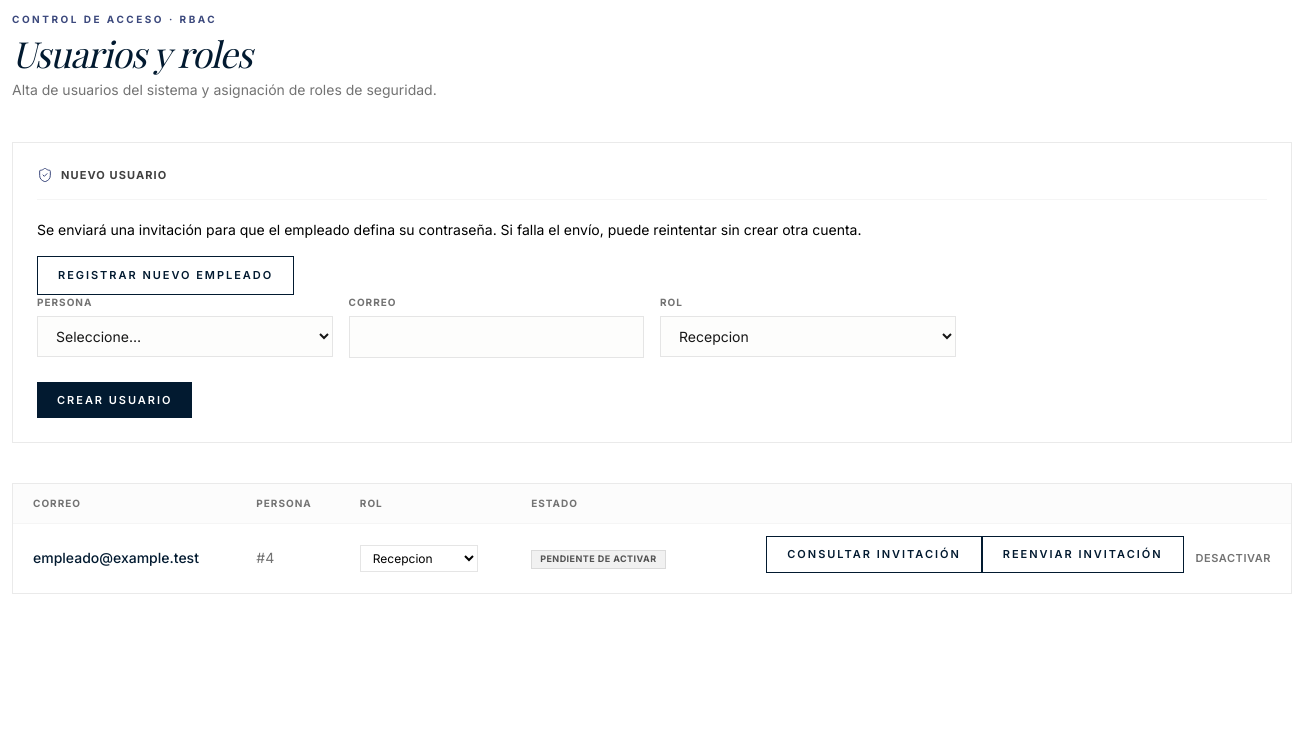
Test case: Administración invita al personal sin definir contraseñas › registra un empleado nuevo desde Usuarios en una sola solicitud
The width and height of the screenshot is (1292, 732).
Click the button "Registrar nuevo empleado" at {"x": 166, "y": 276}, box [37, 256, 294, 295]
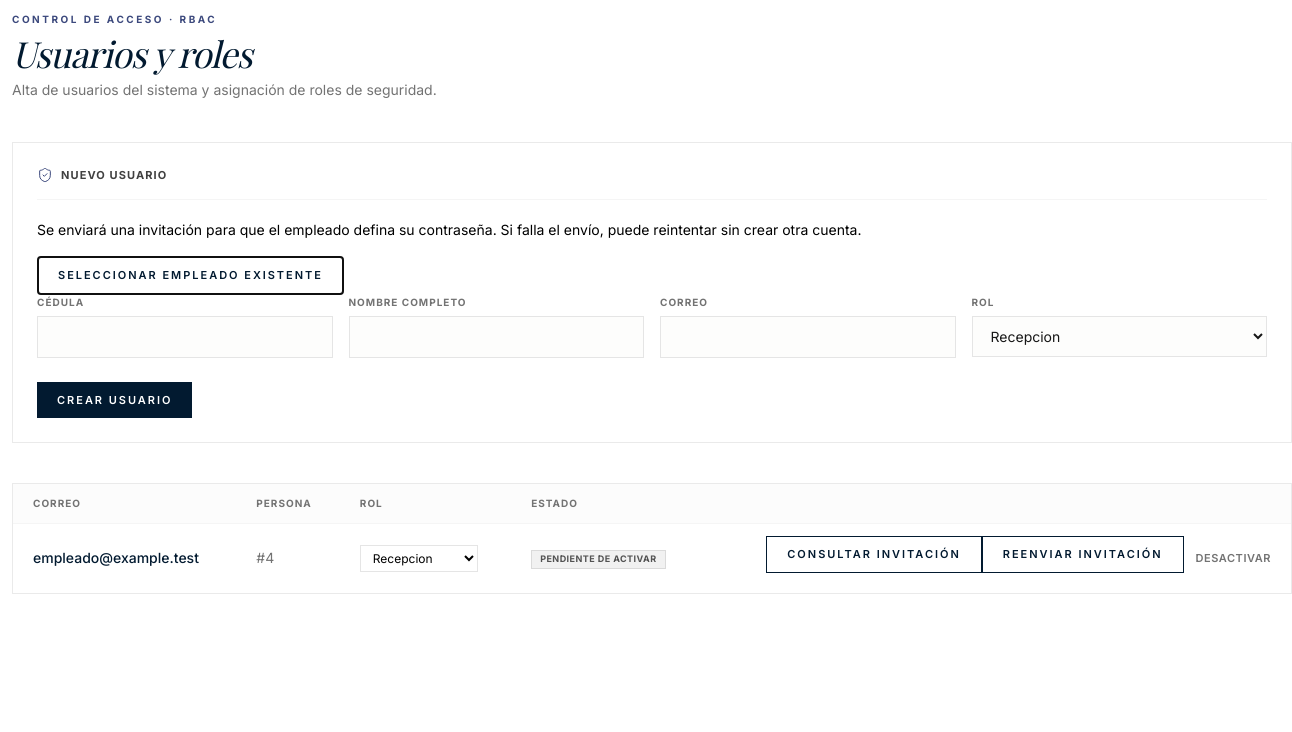
Type "123456" into the field labelled "Cédula" at {"x": 185, "y": 337}, box [37, 316, 332, 358]
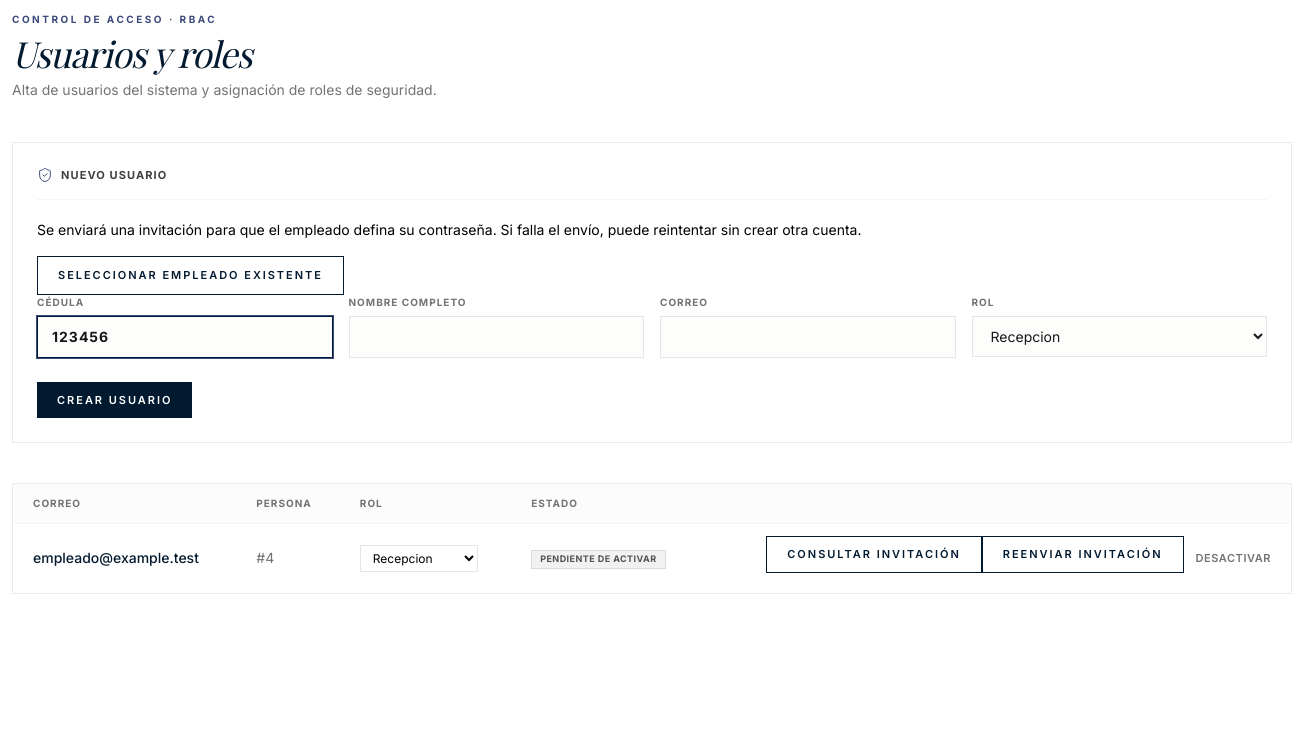
Type "Ana Empleada" into the field labelled "Nombre completo" at {"x": 496, "y": 337}, box [348, 316, 644, 358]
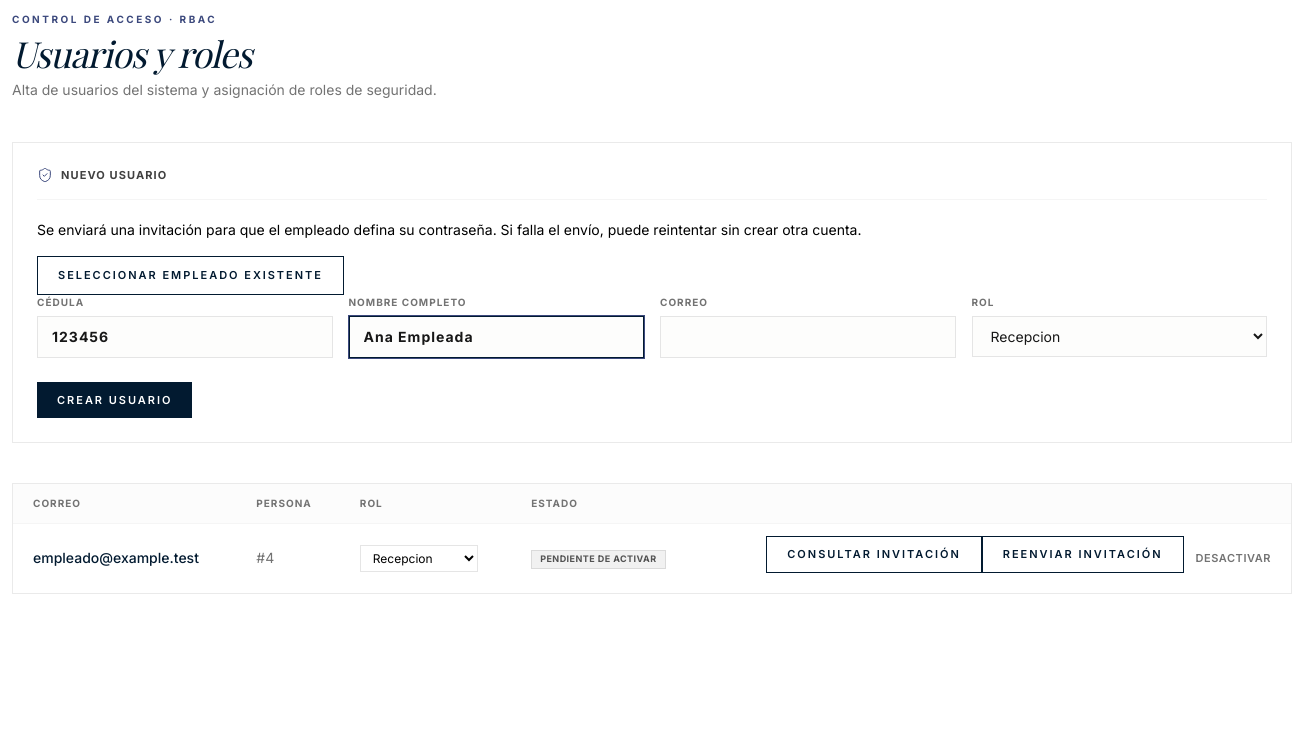
Type "empleado@example.test" into the field labelled "Correo" at {"x": 808, "y": 337}, box [660, 316, 956, 358]
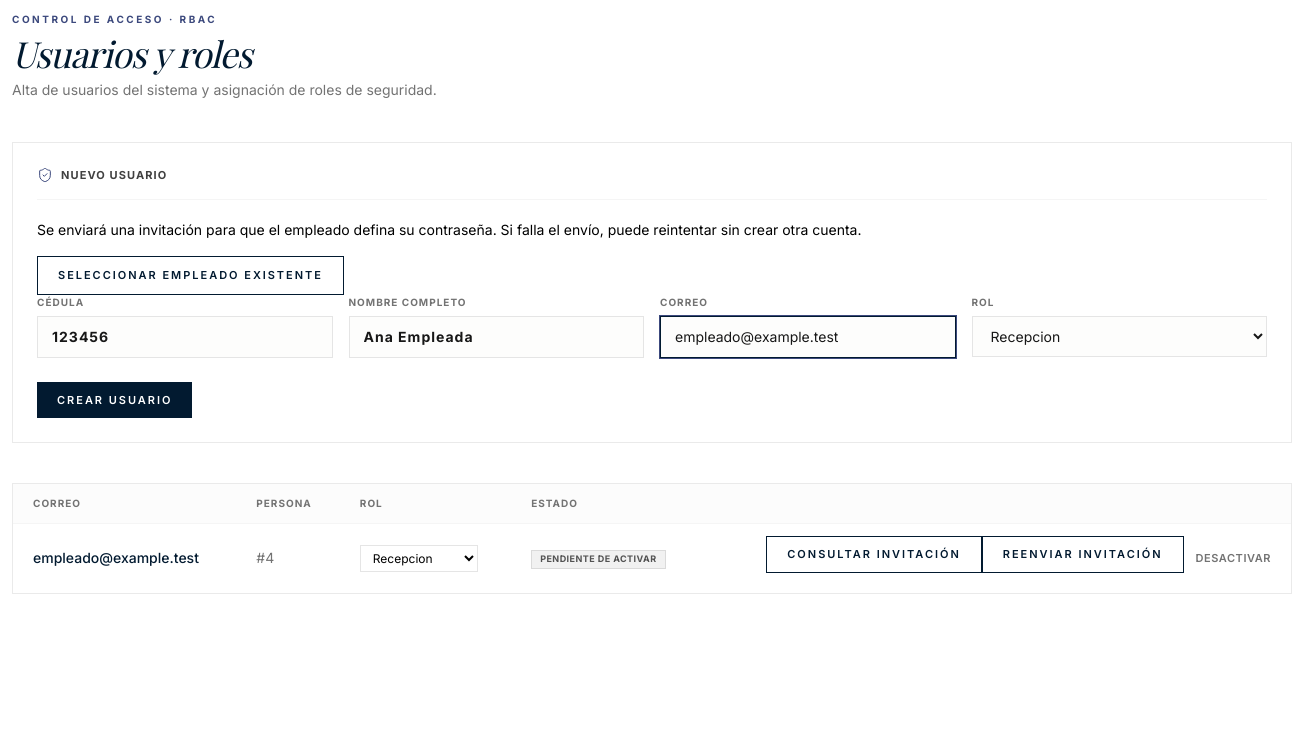
Click the button "Crear usuario" at {"x": 115, "y": 400}, box [37, 382, 192, 418]
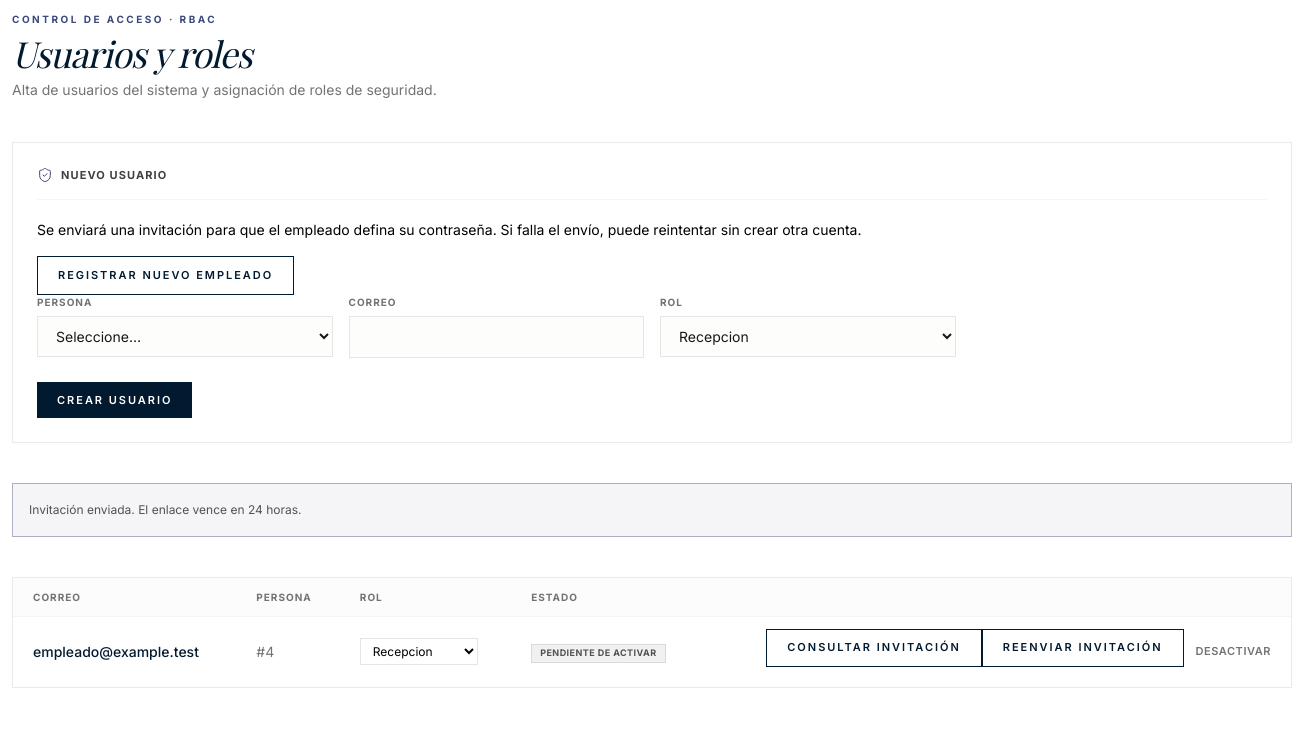
Now the text "Invitación enviada. El enlace vence en 24 horas." is shown, box [12, 483, 1291, 537]
